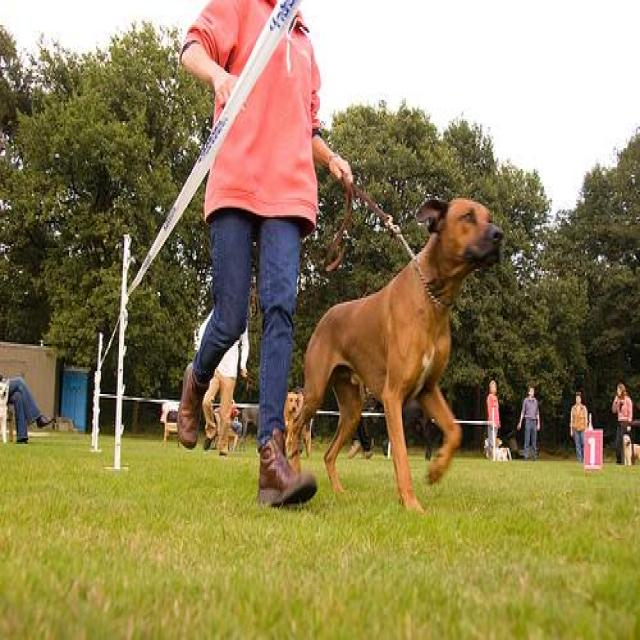rhodesian_ridgeback: (290, 200, 507, 515)
